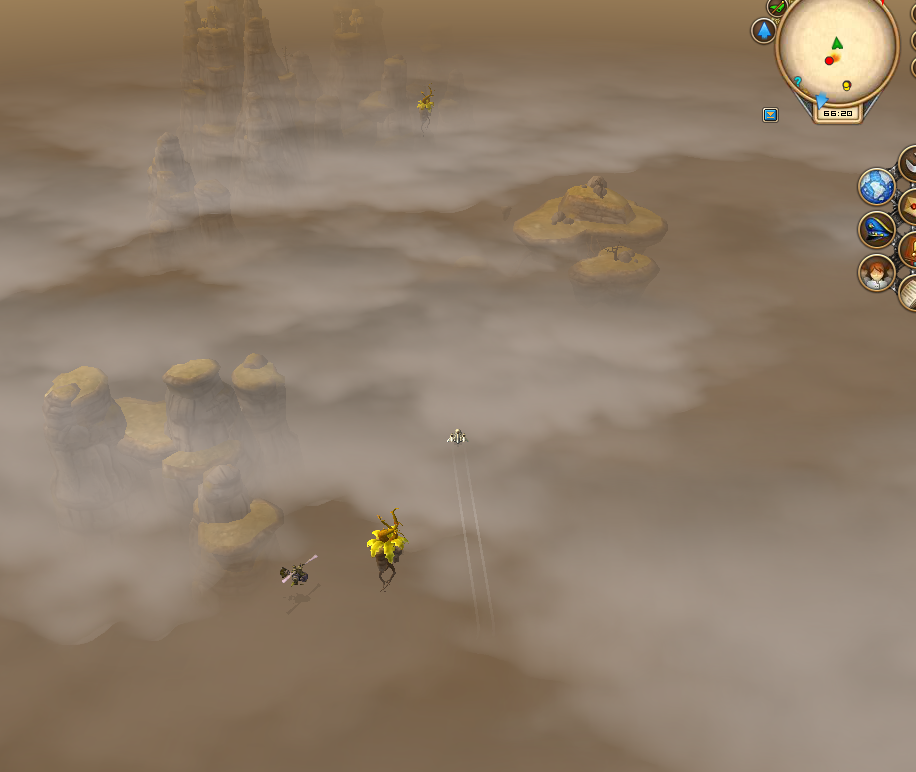dandelion-empty: (363, 500, 416, 595), (411, 75, 440, 128)
